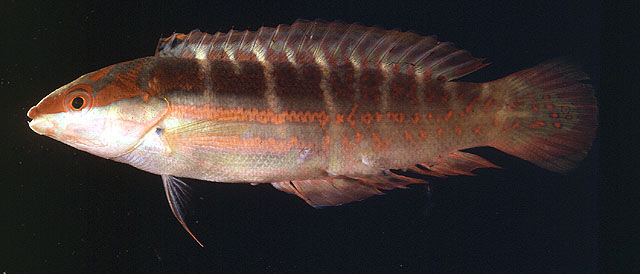fish: (26, 20, 598, 247)
